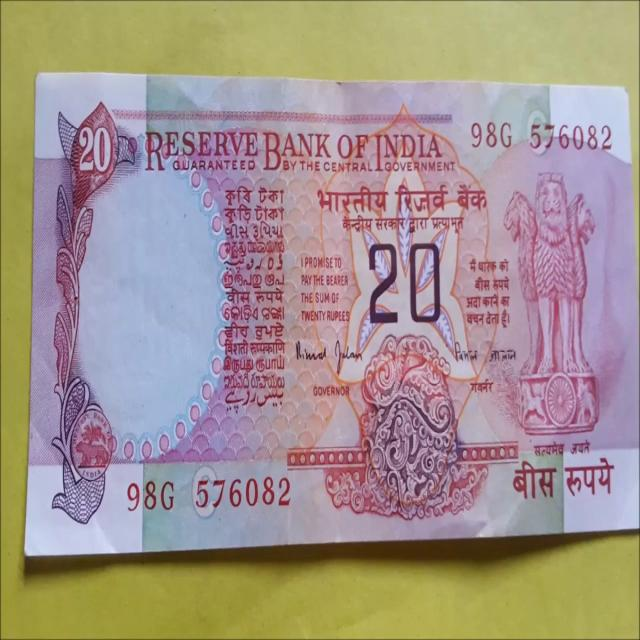20rs: (35, 72, 640, 542)
